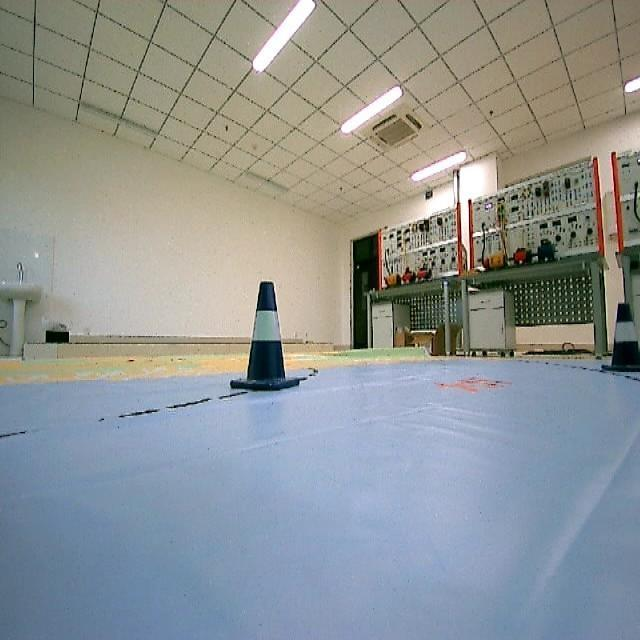obstacle: (226, 276, 305, 394), (608, 304, 640, 379)
